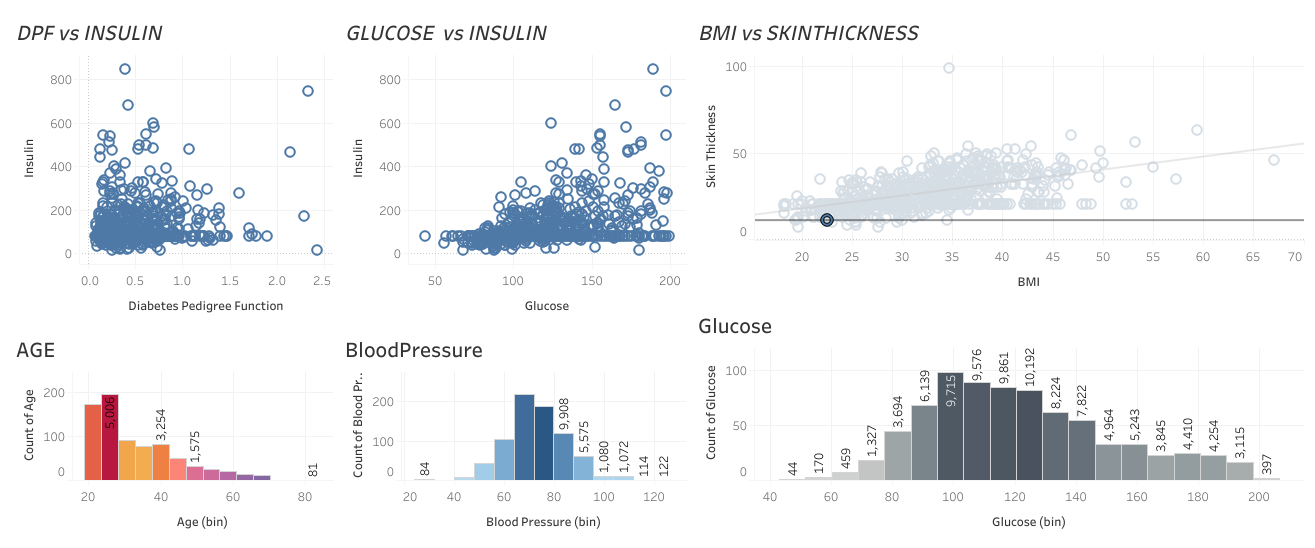

This screenshot's page, from the dashboard's own definition file:
{"tool":"tableau","page":{"name":"scatters and frequency charts","canvas":[1000,1000],"units":"permille","ordinal":1},"visuals":[{"type":"worksheet","box":[0,0,1000,1000]},{"type":"worksheet","param":"horz","box":[4.9,9.5,990.2,981]},{"type":"worksheet","param":"horz","box":[4.9,9.5,990.2,981]},{"type":"worksheet","param":"horz","box":[4.9,9.5,990.2,981]},{"type":"worksheet","param":"horz","box":[4.9,9.5,990.2,981]},{"type":"worksheet","param":"horz","box":[4.9,9.5,990.2,981]},{"type":"worksheet","box":[4.9,9.5,612.7,981]},{"type":"worksheet","title":"DPF vs INSULIN","mark":"Automatic","rows":["Insulin"],"cols":["DiabetesPedigreeFunction"],"box":[4.9,9.5,295.2,583.8]},{"type":"worksheet","title":"GLUCOSE vs INSULIN","mark":"Automatic","rows":["Insulin"],"cols":["Glucose"],"box":[300,9.5,317.6,583.8]},{"type":"worksheet","box":[617.6,9.5,377.5,981]},{"type":"worksheet","param":"vert","box":[617.6,9.5,377.5,583.8]},{"type":"worksheet","title":"BMI vs SKINTHICKNESS","mark":"Automatic","rows":["SkinThickness"],"cols":["BMI"],"box":[617.6,9.5,377.5,545.8]},{"type":"worksheet","title":"Age histogram","mark":"Automatic","rows":["Age"],"cols":["Age (bin)"],"box":[4.9,593.3,295.4,397.2]},{"type":"worksheet","title":"BloodPressure(Histogram)","mark":"Automatic","rows":["BloodPressure"],"cols":["Blood Pressure (bin)"],"box":[300.3,593.3,317.3,397.2]},{"type":"worksheet","param":"vert","box":[617.6,593.3,377.5,397.2]},{"type":"worksheet","title":"Glucose(Histogram)","mark":"Automatic","rows":["Glucose"],"cols":["Glucose (bin)"],"box":[617.6,593.3,377.5,397.2]}]}

Visuals, with their boxes on the dashboard's canvas, which has no fixed pixel size, in thousandths of its width and height (x1, y1, x2, y2). These are canvas units, not pixel positions in the 1315x548 screenshot, which may show the page scaled, cropped or inside an application window:
worksheet: bbox=(0, 0, 1000, 1000)
worksheet: bbox=(5, 10, 995, 990)
worksheet: bbox=(5, 10, 995, 990)
worksheet: bbox=(5, 10, 995, 990)
worksheet: bbox=(5, 10, 995, 990)
worksheet: bbox=(5, 10, 995, 990)
worksheet: bbox=(5, 10, 618, 990)
"DPF vs INSULIN" worksheet: bbox=(5, 10, 300, 593)
"GLUCOSE vs INSULIN" worksheet: bbox=(300, 10, 618, 593)
worksheet: bbox=(618, 10, 995, 990)
worksheet: bbox=(618, 10, 995, 593)
"BMI vs SKINTHICKNESS" worksheet: bbox=(618, 10, 995, 555)
"Age histogram" worksheet: bbox=(5, 593, 300, 990)
"BloodPressure(Histogram)" worksheet: bbox=(300, 593, 618, 990)
worksheet: bbox=(618, 593, 995, 990)
"Glucose(Histogram)" worksheet: bbox=(618, 593, 995, 990)
